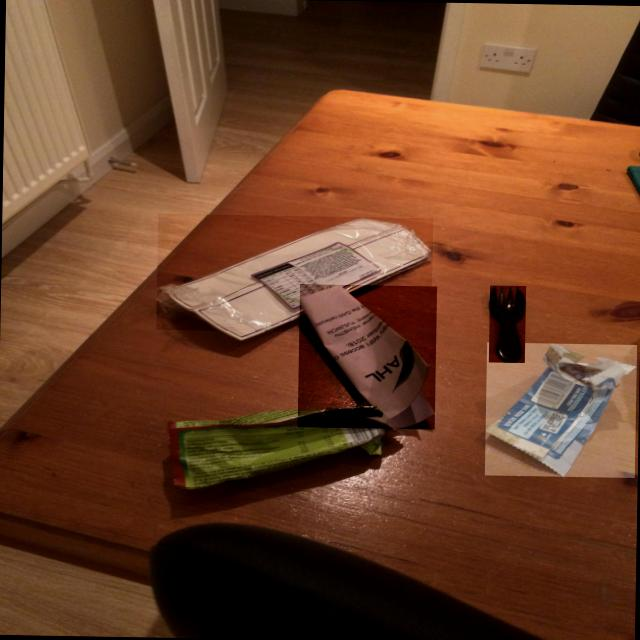Other container: (489, 285, 525, 362)
Other plastic: (486, 343, 636, 476), (167, 406, 404, 488)
Paper bag: (300, 285, 434, 428)
Plastic film: (157, 217, 432, 331)
